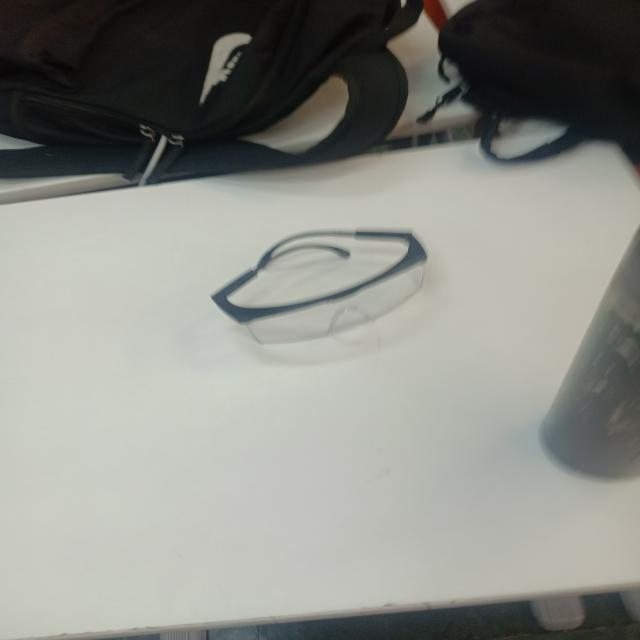oculos-epi: (210, 230, 427, 344), (228, 236, 407, 308)
